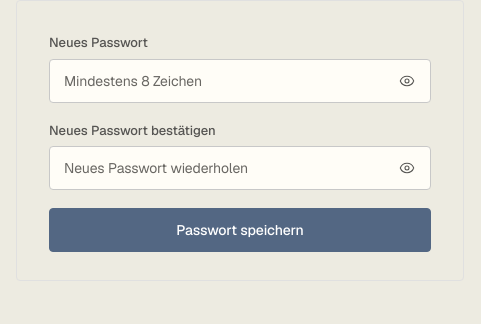
Test: ResetPasswordForm › requires matching passwords before sending the token
This screenshot has width=481, height=324.
In the password field labelled "Neues Passwort": coordinates (240, 80) [49,58,431,102], type "Secure123!"
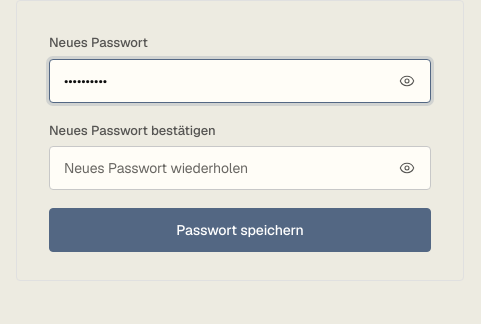
In the password field labelled "Neues Passwort bestätigen": coordinates (240, 168) [49,146,431,190], type "Different123!"
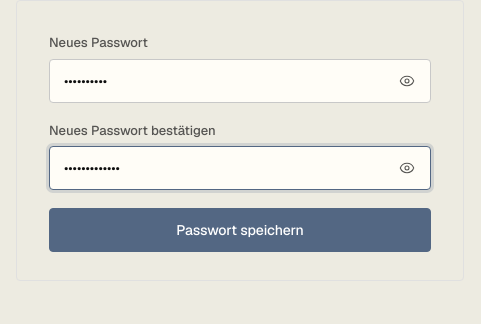
Click the button "Passwort speichern": coordinates (240, 230) [49,208,431,252]
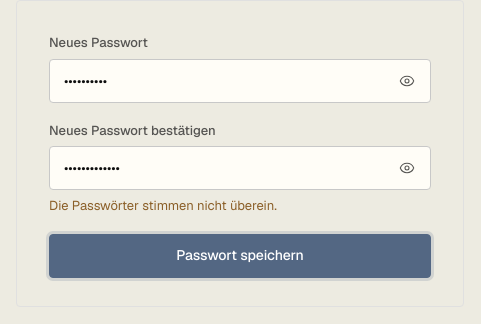
Expected: the text "Die Passwörter stimmen nicht überein." is shown, [49,197,277,214]
